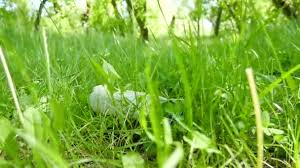plastic_bottle: (89, 83, 194, 125)
